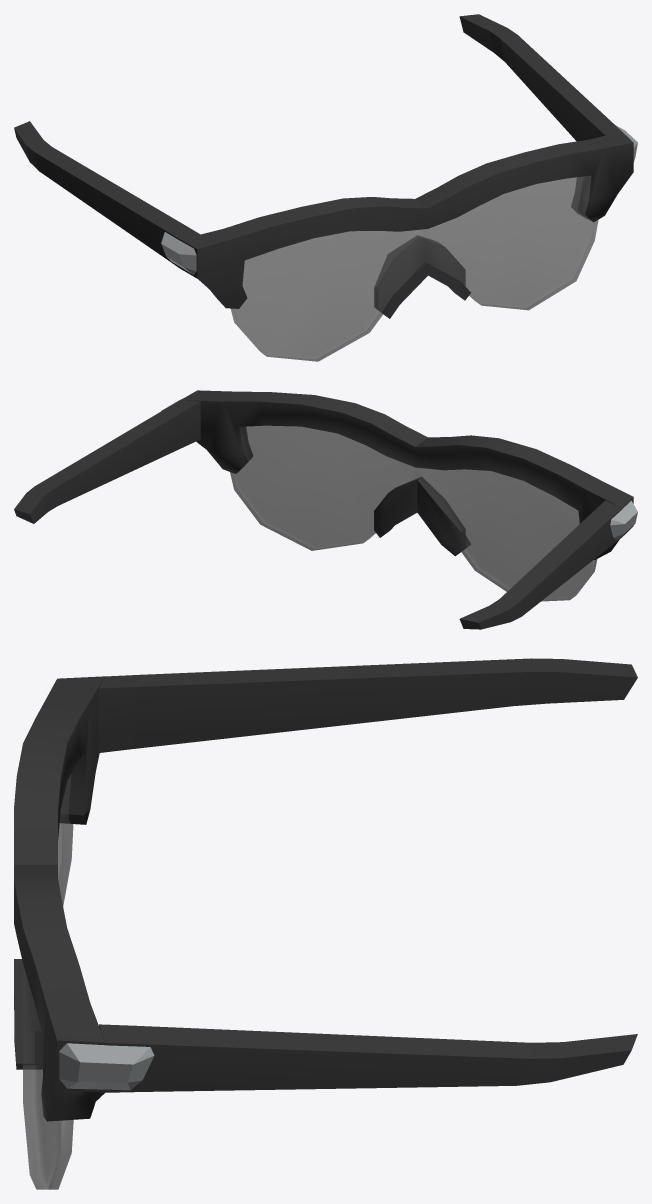
Rendered from Eyewear_4.fbx.
The picture shows the model from 3 angles, top to bottom: view 1: azimuth 30°, elevation 25°; view 2: azimuth 150°, elevation 25°; view 3: azimuth 270°, elevation 25°; orthographic projection. The views are drawn at different scales.
Parts seen in each view (by area): view 1: Eyewear_4; view 2: Eyewear_4; view 3: Eyewear_4.
Part boxes in pixels (bbox=[...]): Eyewear_4: bbox=[14, 14, 637, 361]; Eyewear_4: bbox=[14, 390, 637, 629]; Eyewear_4: bbox=[14, 658, 637, 1189].
Bounding box in the file's own units: 69.63 × 20.45 × 45.86.
